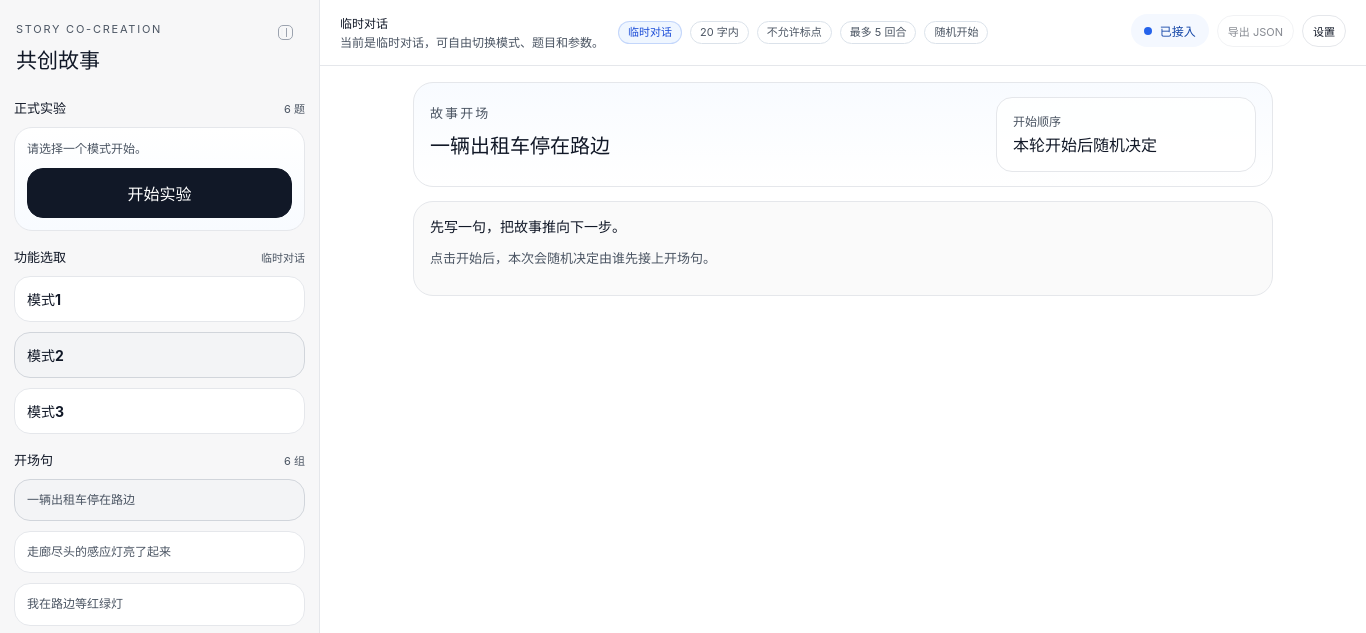
Test case: App › hydrates saved api config into settings drawer on reopen
Click the button "设置" at (1324, 30), box [1302,14,1346,46]
(page scrolled)
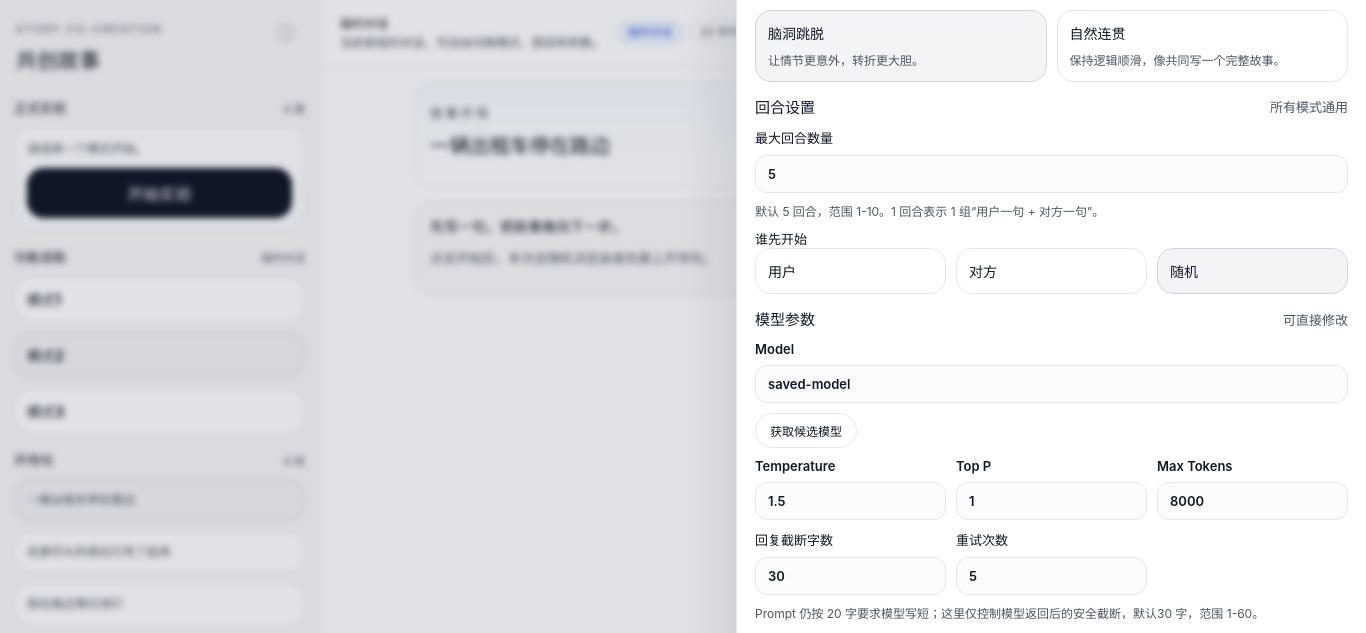
expect the field labelled "Model" holds "saved-model": met, box [755,365,1348,403]
